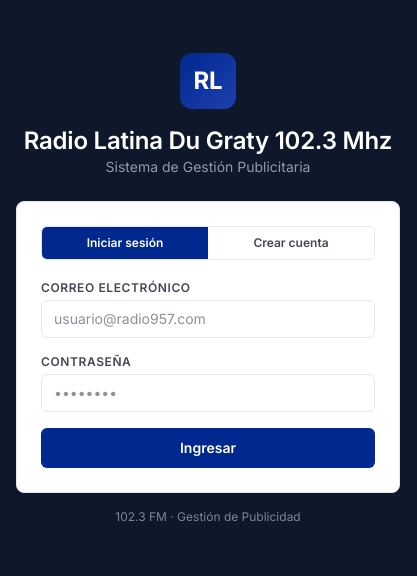
Auth page › cambia al modo registro y muestra el campo nombre
The width and height of the screenshot is (417, 576).
Click the button "Crear cuenta".
click(291, 243)  # box [208,227,374,259]
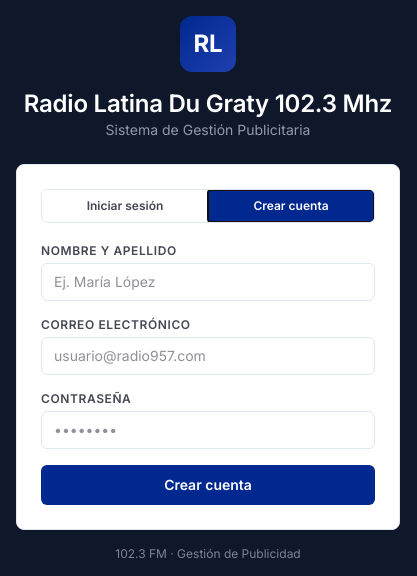
Expected: the field labelled "Nombre y apellido" is shown, [41,263,375,301]
